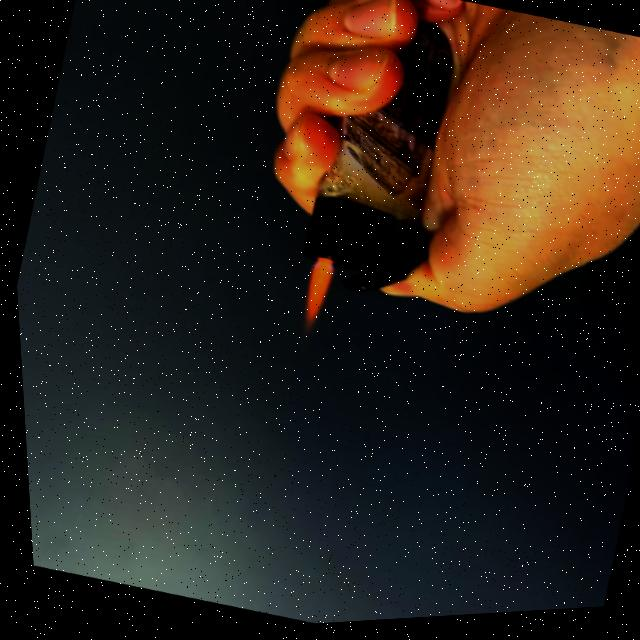Fire: (284, 255, 338, 348)
